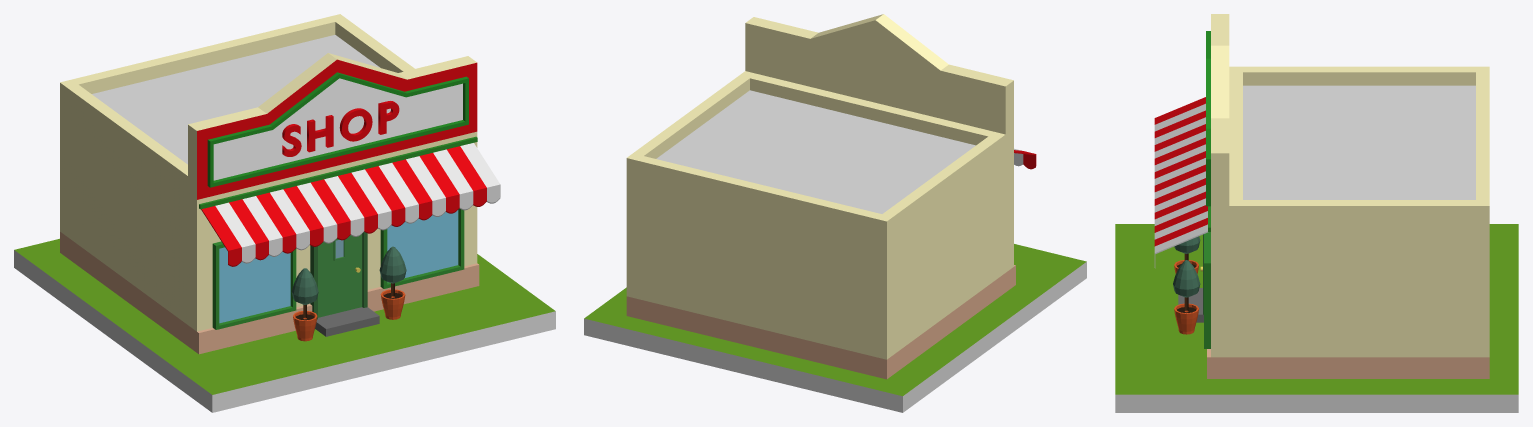
The model's file is Shop.gltf.
3 renders of one model, left to right at view 1: azimuth 30°, elevation 25°; view 2: azimuth 150°, elevation 25°; view 3: azimuth 270°, elevation 25°, orthographic. The views are drawn at different scales.
Parts seen in each view (by area): view 1: zgrada.002, Baza 1x1.003, Plane, prozori, ulazna vrata kuce.004, zardinjera.004, Text, lajsana; view 2: zgrada.002, Baza 1x1.003; view 3: zgrada.002, Baza 1x1.003, Plane, zardinjera.004, prozori, ulazna vrata kuce.004.
Boxes of the visible parts, box(x1,y1,x2,y2) form: zgrada.002: box(60, 14, 479, 354); Baza 1x1.003: box(14, 238, 555, 412); Plane: box(201, 143, 500, 266); prozori: box(212, 208, 464, 329); ulazna vrata kuce.004: box(310, 232, 379, 336); zardinjera.004: box(291, 246, 406, 341); Text: box(282, 101, 399, 156); lajsana: box(199, 136, 477, 209); zgrada.002: box(626, 14, 1015, 379); Baza 1x1.003: box(584, 244, 1086, 412); zgrada.002: box(1206, 14, 1489, 378); Baza 1x1.003: box(1115, 224, 1518, 412); Plane: box(1154, 97, 1208, 268); zardinjera.004: box(1173, 236, 1200, 334); prozori: box(1204, 232, 1210, 348); ulazna vrata kuce.004: box(1178, 234, 1203, 322).
Size of the model in its own units: 2 by 1.54 by 2.
